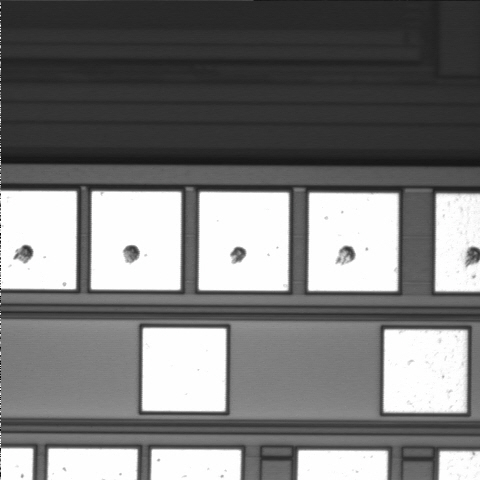pad: (91, 191, 181, 290), (199, 192, 289, 291), (308, 193, 398, 291), (142, 328, 226, 411), (384, 330, 467, 413)
